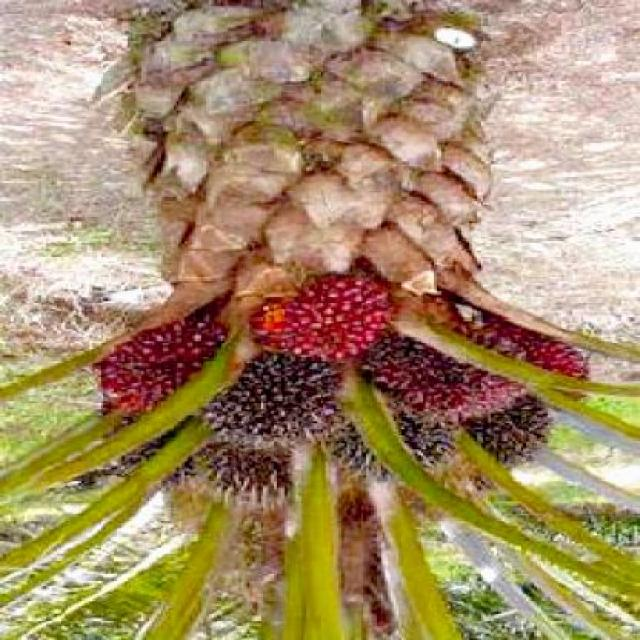palm-oil: (379, 301, 593, 412), (250, 260, 397, 352), (111, 312, 229, 418), (206, 348, 337, 440), (317, 401, 455, 483), (188, 439, 318, 515), (464, 386, 548, 465)
